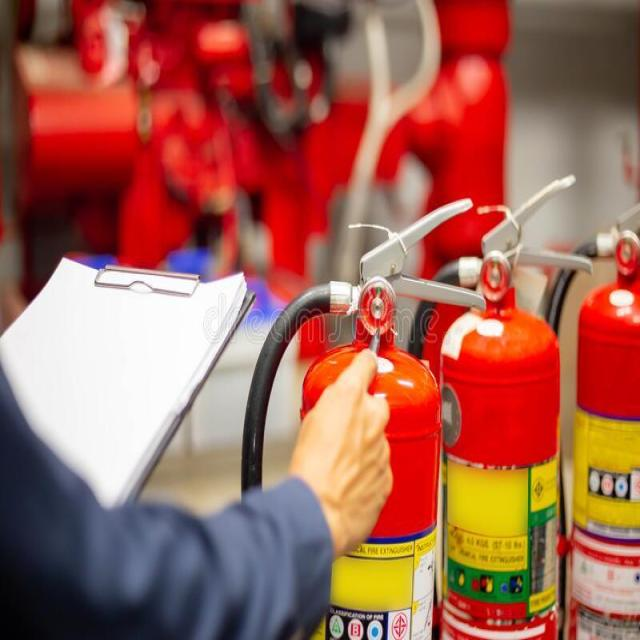fire_extinguisher: (234, 192, 488, 639), (396, 169, 596, 639), (534, 196, 638, 639)
